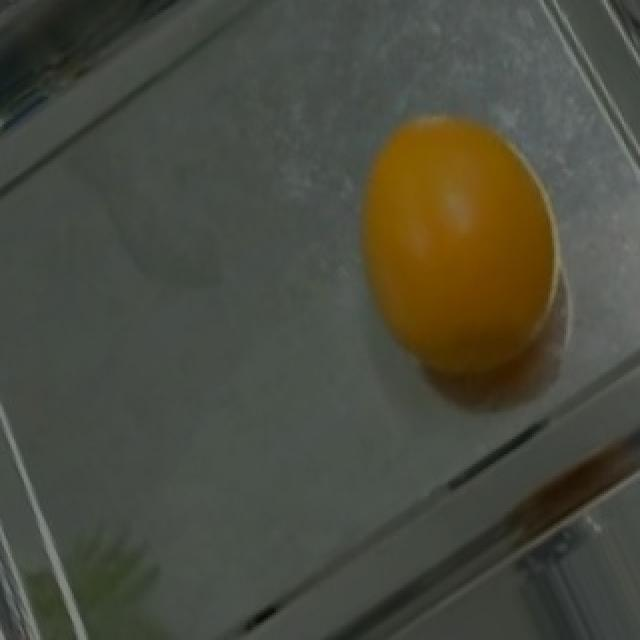Fruit: (338, 87, 584, 417)
